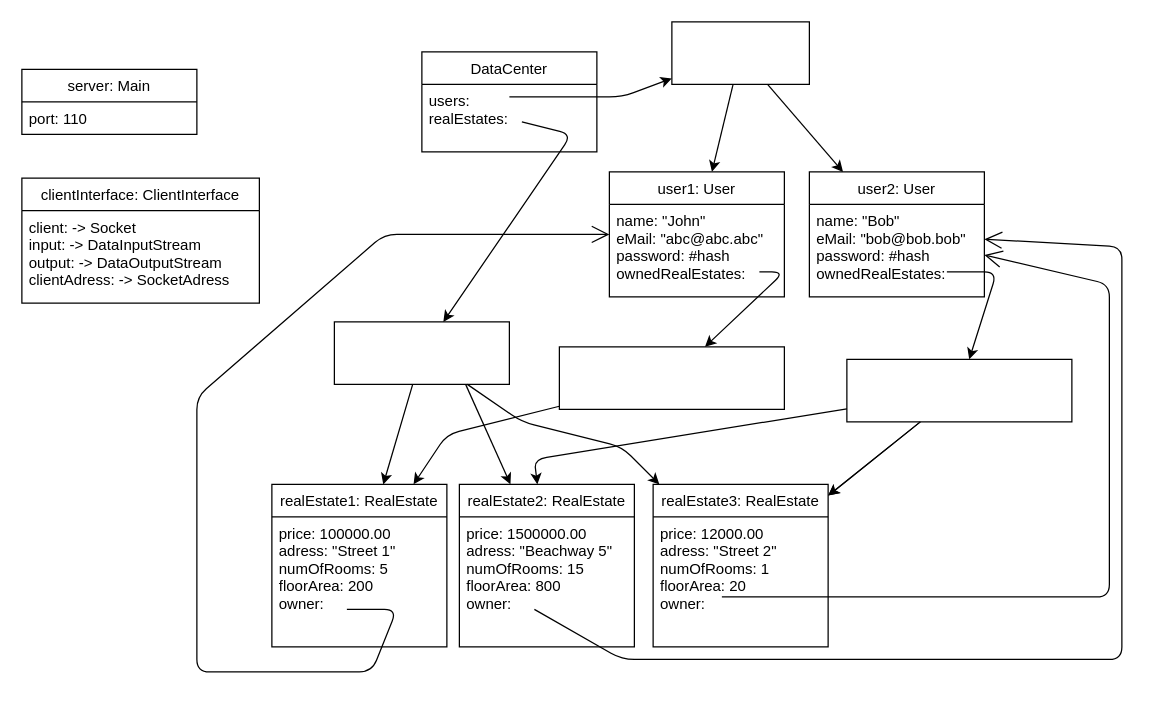
Image size: 1161x711. Some labels were removed from this diagram. Here are the shapes that lost their labels. From the top down, the centre of each, then its label:
point 740,52: users: ArrayList
point 421,352: realEstates : ArrayList
point 671,377: ownedRealEstates1 : ArrayList
point 959,390: ownedRealEstates2 : ArrayList
